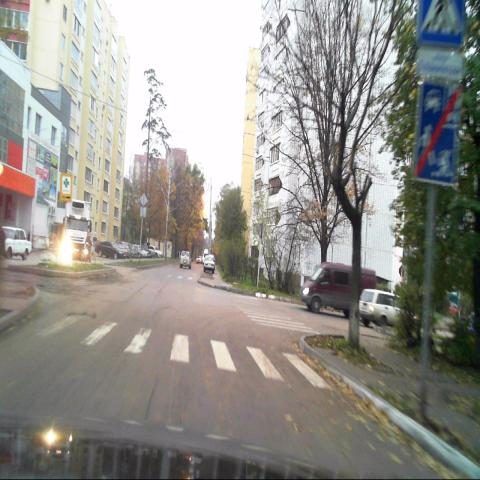5_22: (414, 81, 456, 184)
